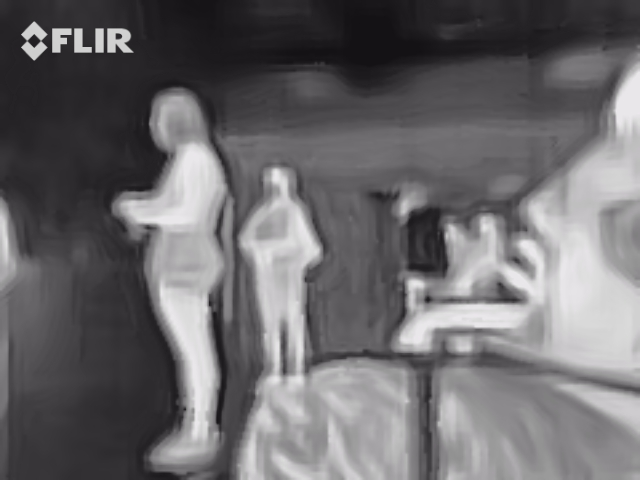head: (148, 89, 200, 150)
